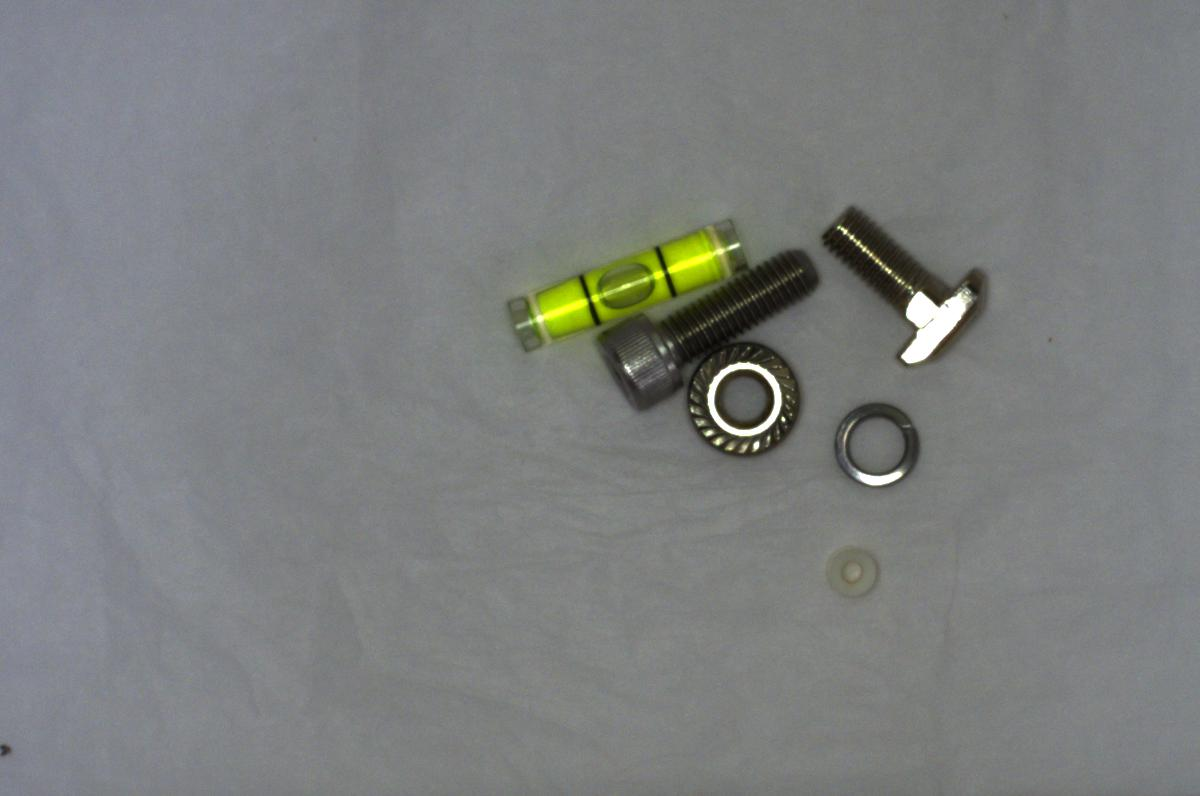Flange nut: (670, 336, 801, 462)
Hexagon screw: (589, 231, 817, 412)
Horizontal bubble: (512, 203, 746, 355)
Plastic cushion pillar: (819, 539, 891, 606)
Spring washer: (823, 396, 930, 491)
T-shaped screw: (826, 199, 988, 371)
